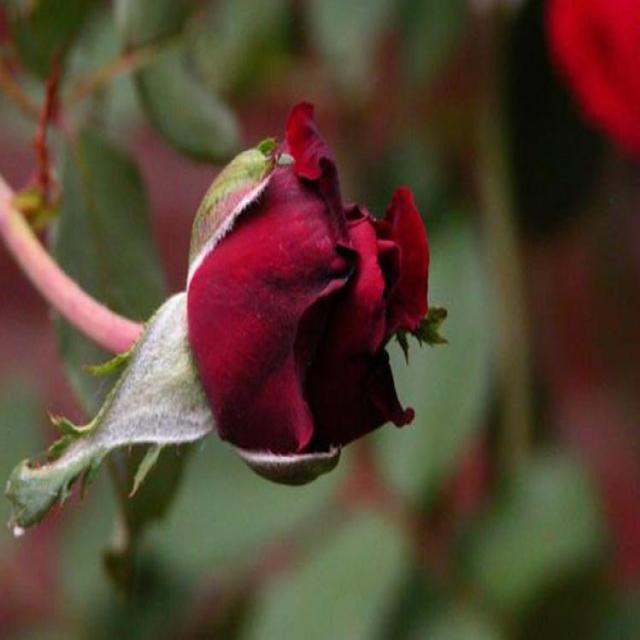rose: (90, 64, 483, 523)
